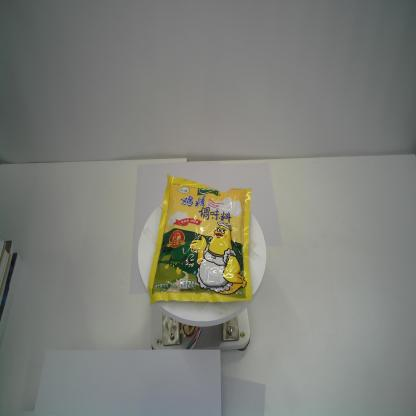Seasoner: (145, 174, 255, 305)
